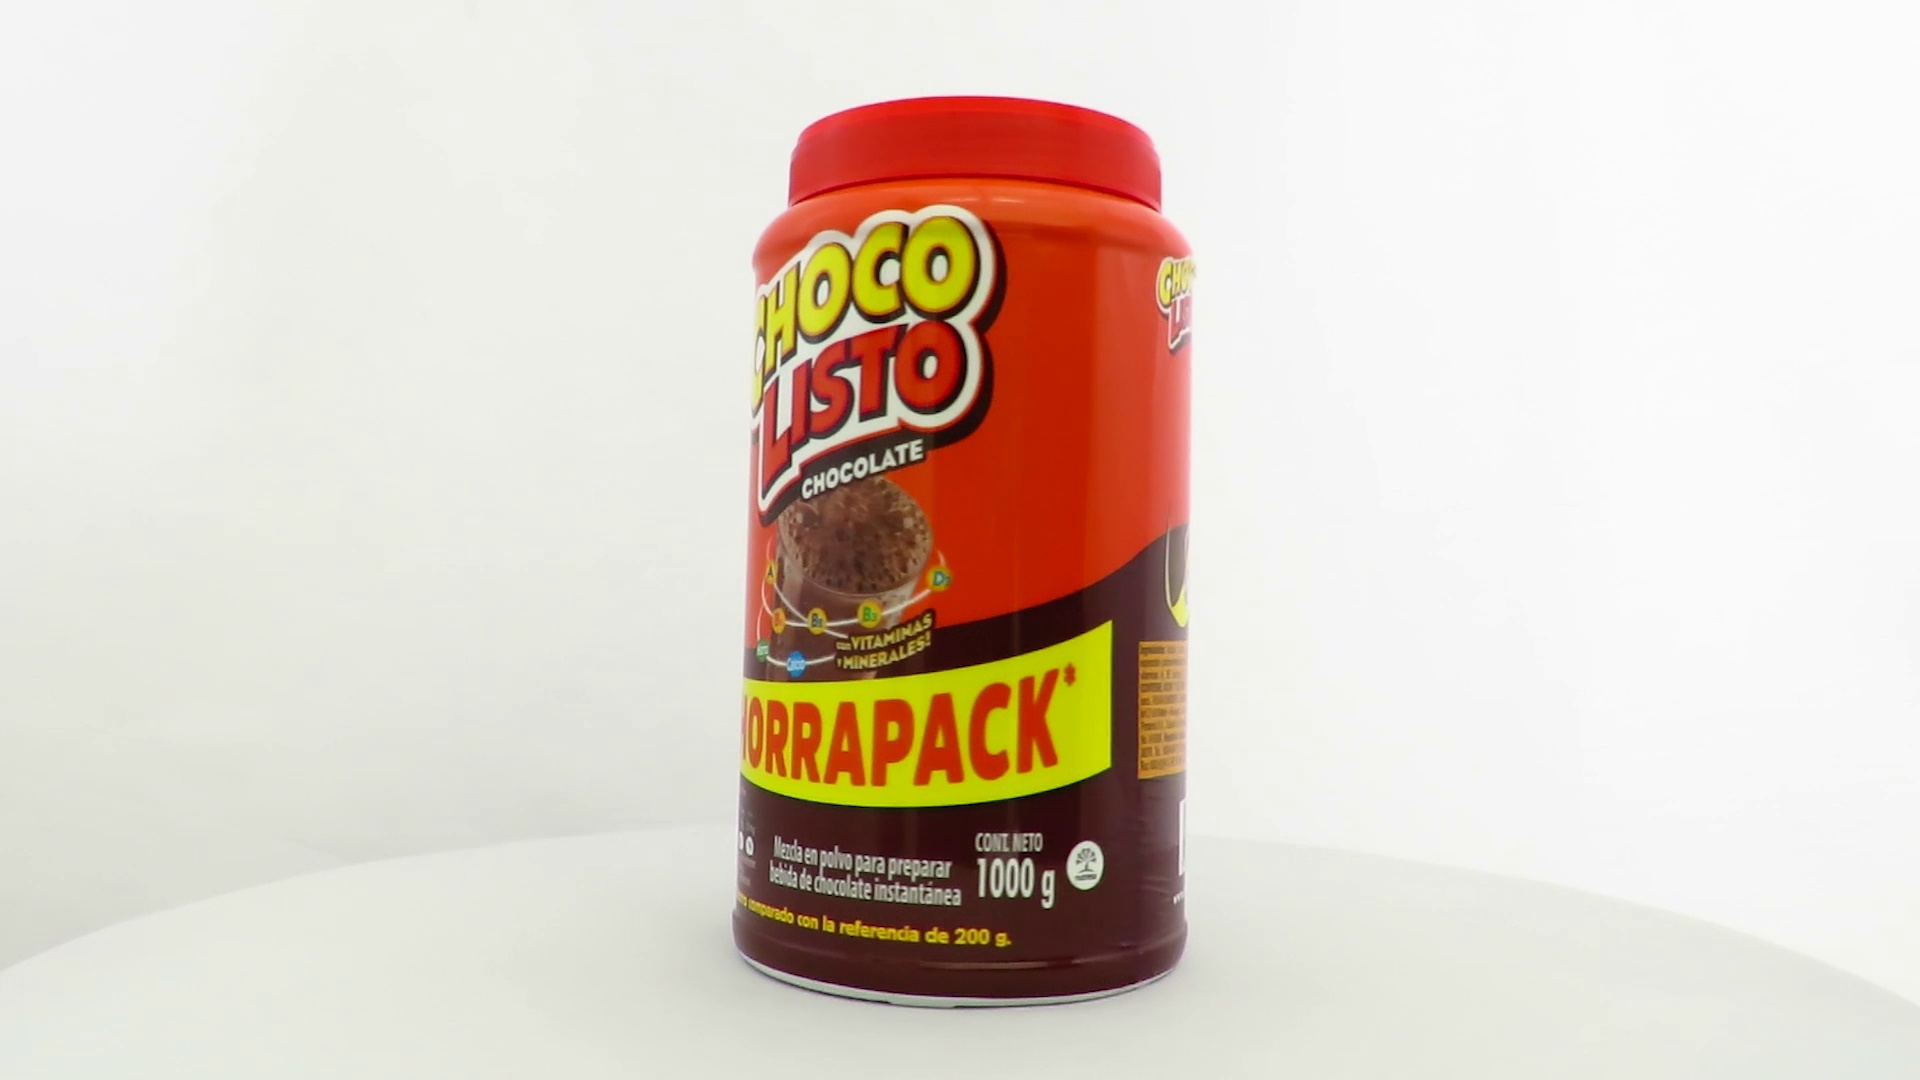COL0170103TRR00100: (727, 91, 1203, 1015)
